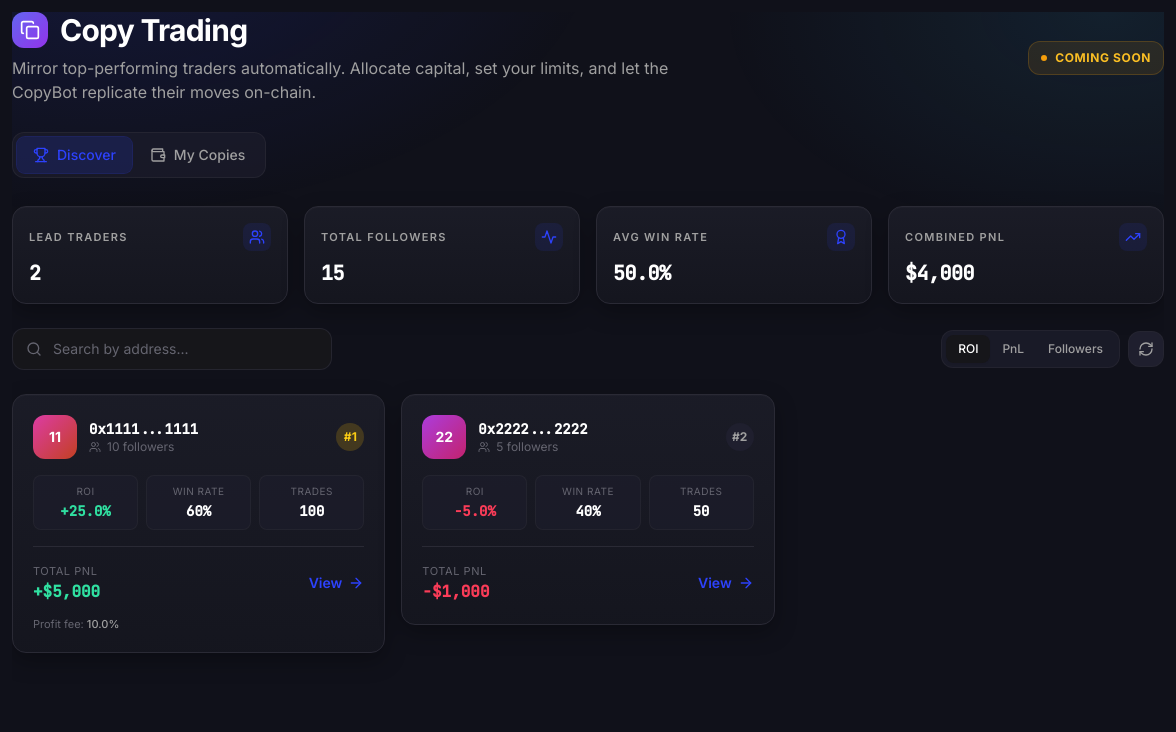
CopyTradingPage › shows connect prompt in My Copies when disconnected
Click the button "My Copies": [198, 155] box left=134, top=137, right=261, bottom=173
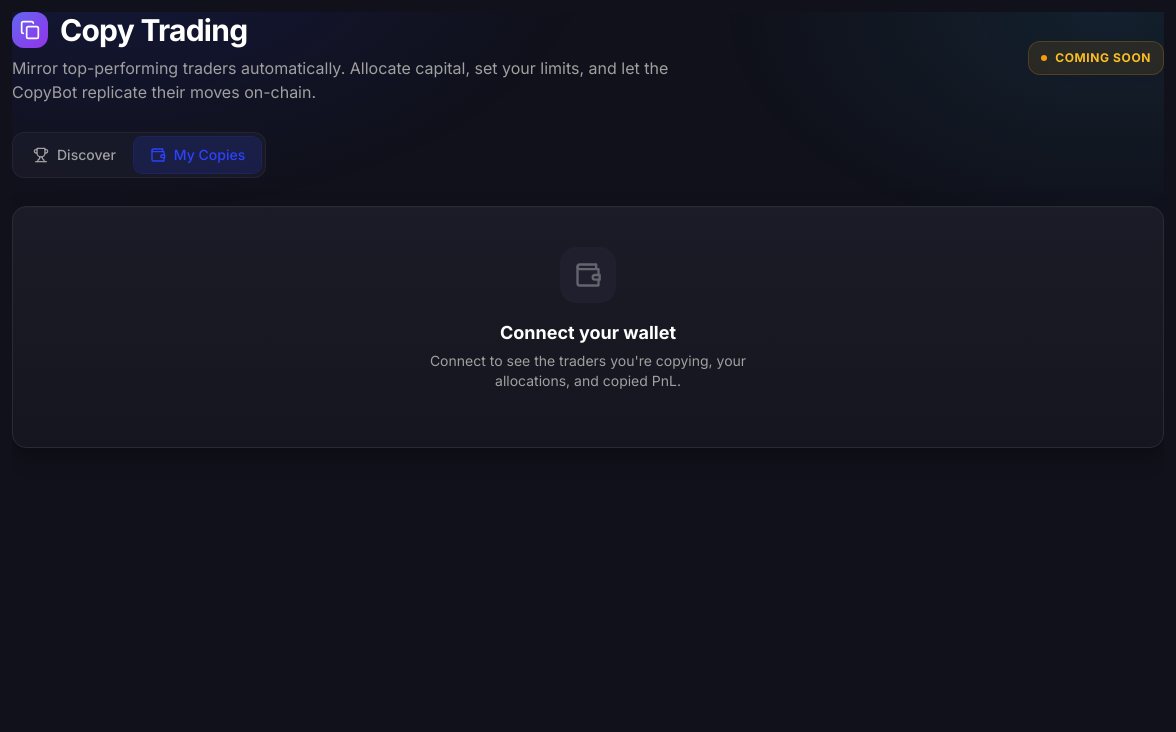
Check: the heading "Connect your wallet" is shown, box left=500, top=322, right=676, bottom=343
